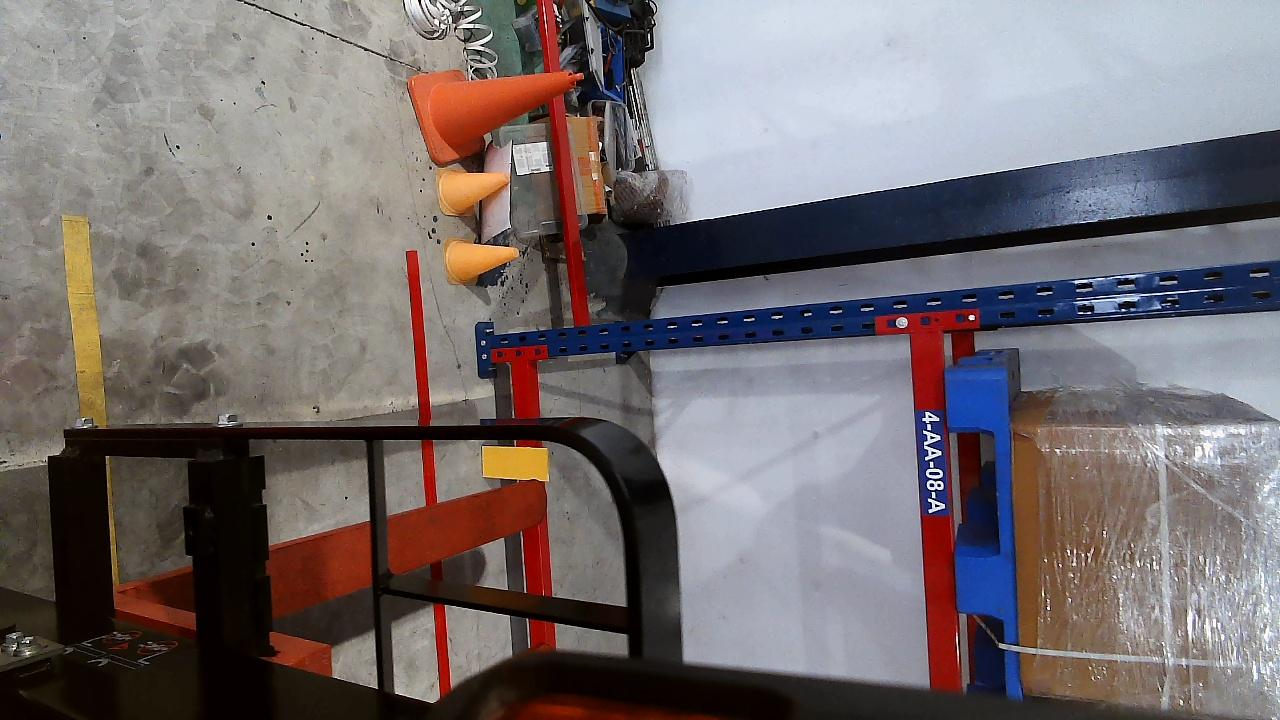h_rack: (907, 327, 963, 689), (506, 360, 560, 649)
orange_strip: (482, 447, 550, 484)
red_line: (404, 250, 446, 503)
small_pallet: (951, 368, 1020, 692)
yellow_line: (59, 214, 106, 426)
